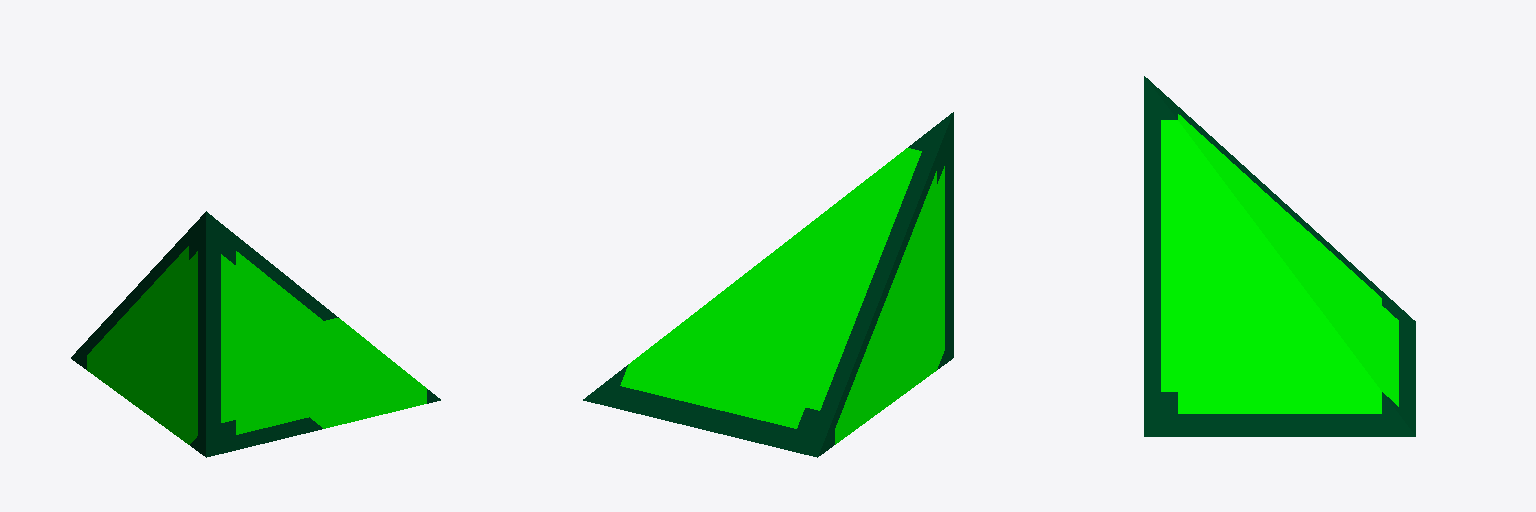
3 views of the same model, side by side, from view 1: azimuth 30°, elevation 25°; view 2: azimuth 150°, elevation 25°; view 3: azimuth 270°, elevation 25° (orthographic).
Visible parts, largest first — view 1: 5_green; view 2: 5_green; view 3: 5_green.
Part boxes in pixels (x1,y1,x2,y2): 5_green: (71, 211, 440, 457); 5_green: (583, 112, 953, 457); 5_green: (1144, 76, 1415, 436).
Size of the model in its own units: 1 by 1 by 1.
1 materials, 1 textured.